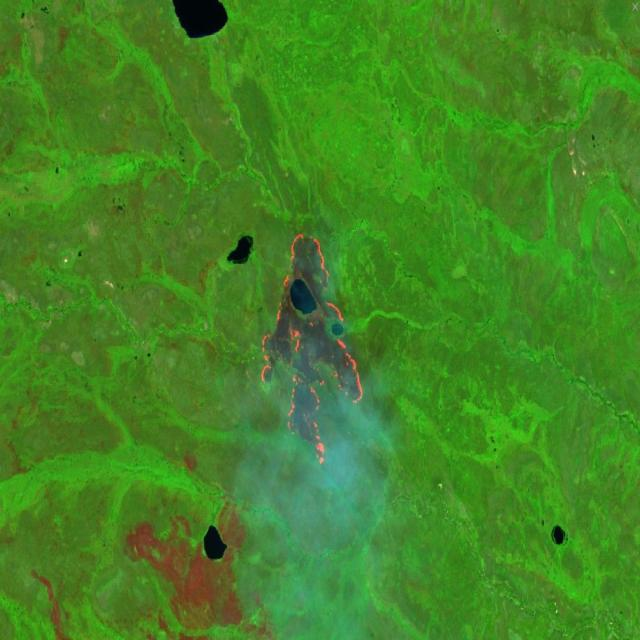fire: (254, 223, 373, 469)
